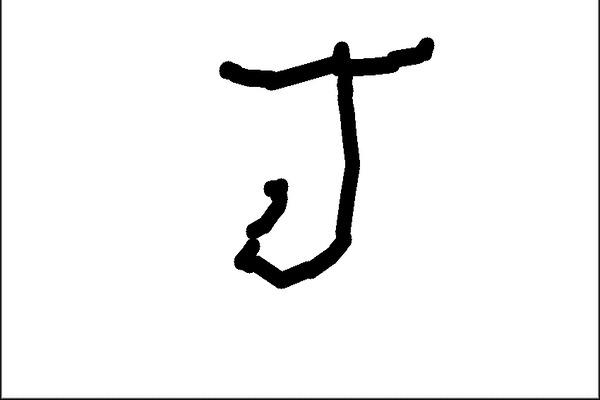J: (206, 28, 439, 298)
